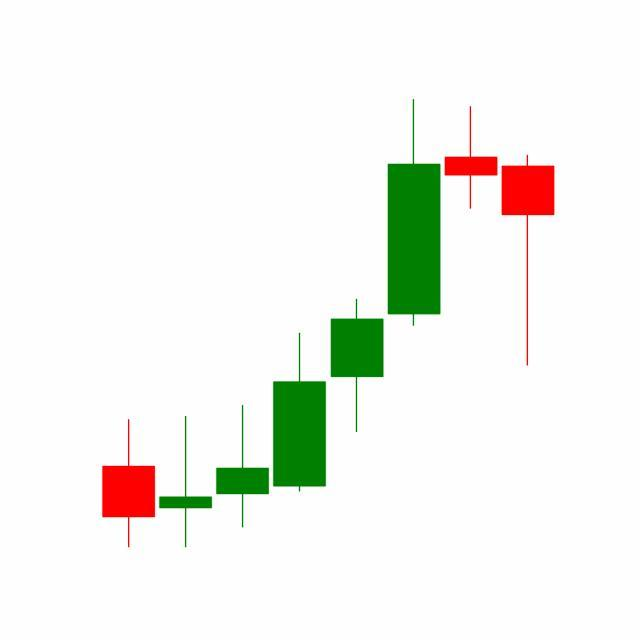Hikkake Pattern: (270, 100, 555, 498)
